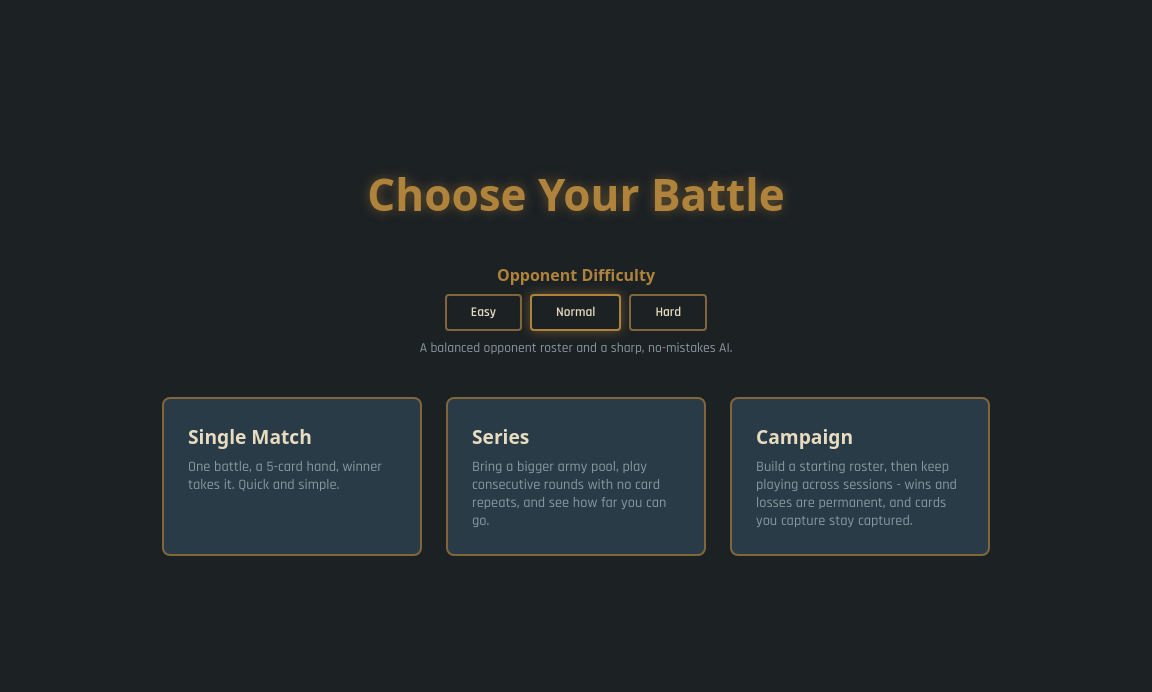
Scenario: ModeSelectScreen › reveals pool size options after clicking Series
This screenshot has width=1152, height=692.
Click the button "Series" at [576, 476], box left=446, top=397, right=706, bottom=556
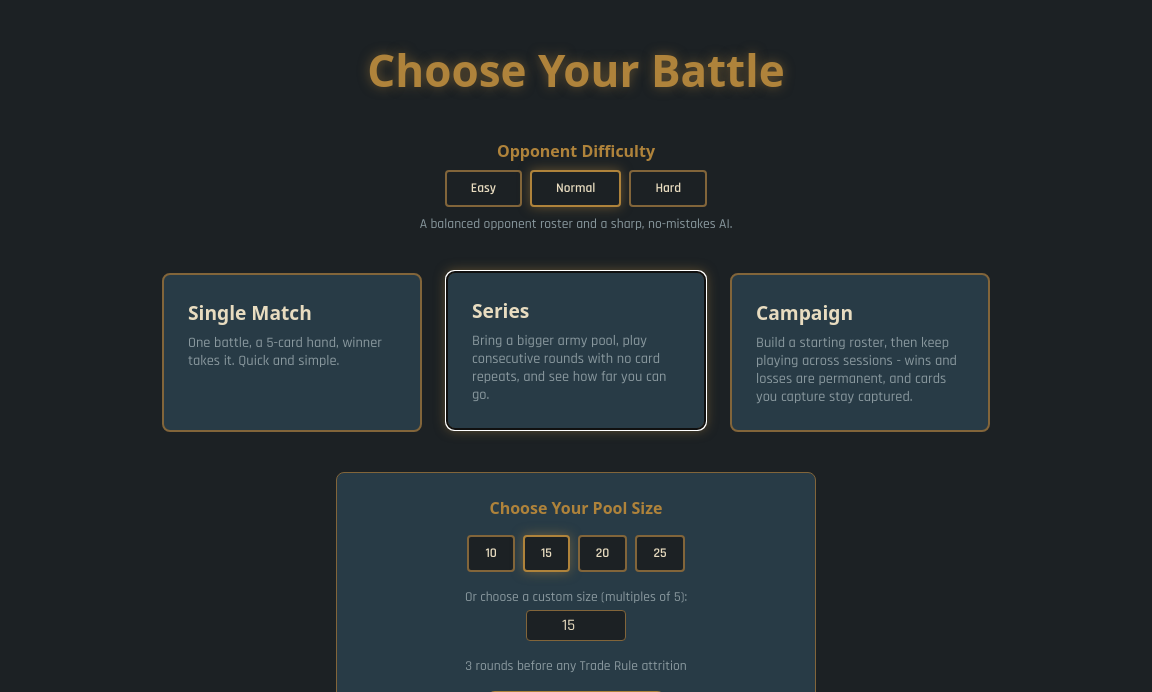
Now the heading "Choose Your Pool Size" is shown, box left=490, top=497, right=662, bottom=519
